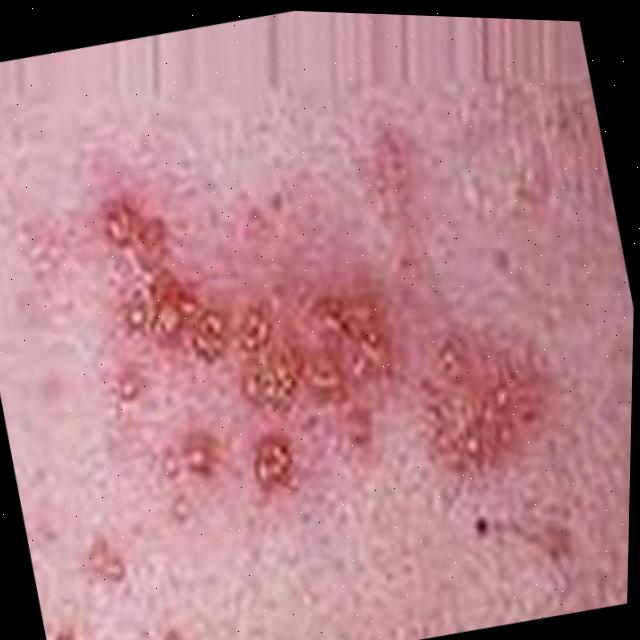Shingles: (66, 142, 424, 517), (401, 323, 560, 482)
